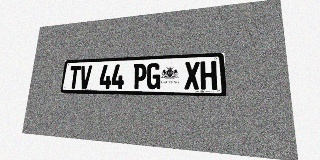4: (111, 64, 125, 89), (99, 65, 113, 89)
G: (146, 63, 161, 89)
H: (200, 61, 217, 90)
P: (132, 63, 147, 89)
T: (68, 66, 81, 89)
V: (79, 65, 92, 89)
X: (184, 61, 200, 90)
